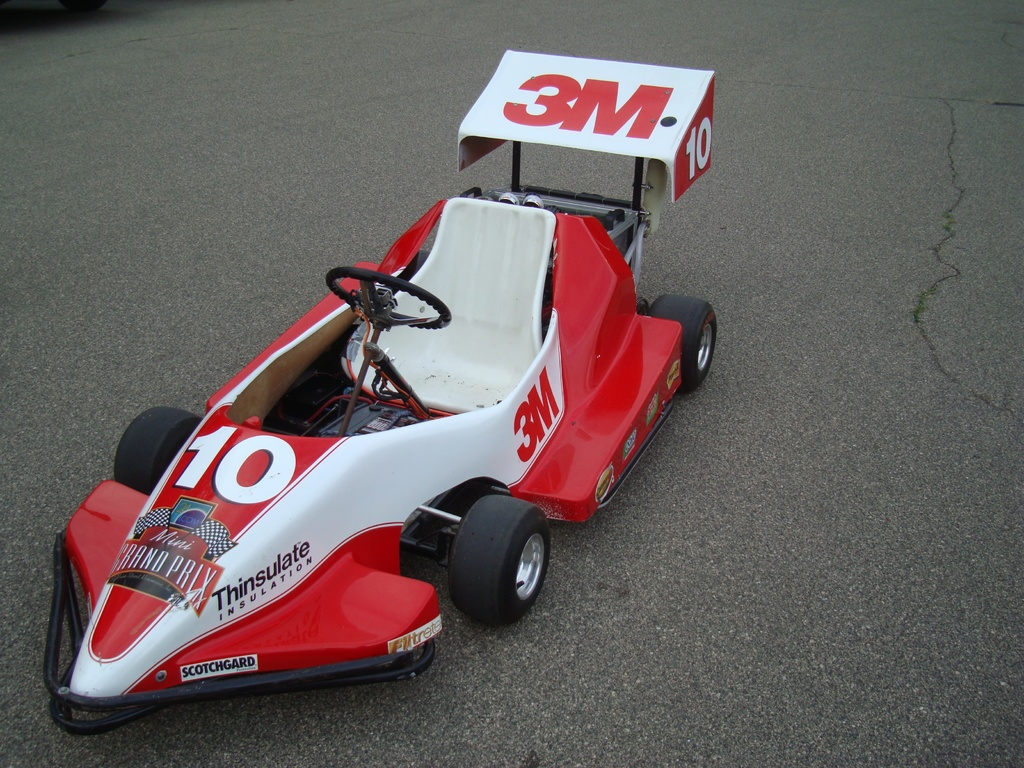Car: (44, 45, 720, 746)
